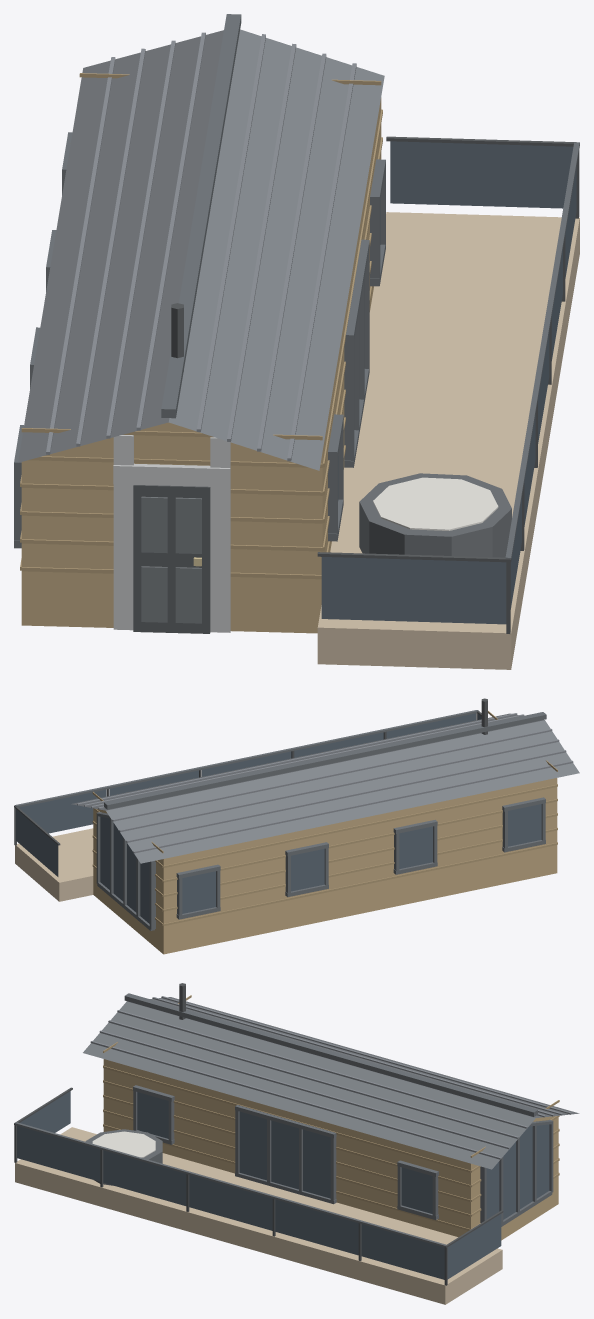
The picture shows the model from 3 angles, top to bottom: view 1: azimuth 30°, elevation 25°; view 2: azimuth 150°, elevation 25°; view 3: azimuth 270°, elevation 25°; orthographic projection. The views are drawn at different scales.
Visible parts, largest first — view 1: slate, larch, door_wood, slate_dk, slate_lt, window_glass_006, window_glass_007, stone_band, door_wood_p, band_dark, door_dark_p, door_dark (+2 smaller); view 2: door_wood, slate, slate_dk, slate_lt, door_wood_p, larch, window_glass_013, window_glass_005, window_glass_007, window_glass_014, window_glass_017, window_glass_015 (+6 smaller); view 3: slate, door_wood, larch, slate_dk, slate_lt, door_wood_p, window_glass_013, window_glass_004, window_glass_001, window_glass_002, window_glass_003, window_glass_005 (+10 smaller).
Boxes of the visible parts, x1=… form: slate: x1=18, y1=29, x2=384, y2=470; larch: x1=317, y1=212, x2=579, y2=669; door_wood: x1=21, y1=97, x2=381, y2=633; slate_dk: x1=14, y1=14, x2=579, y2=559; slate_lt: x1=46, y1=32, x2=356, y2=461; window_glass_006: x1=321, y1=557, x2=506, y2=624; window_glass_007: x1=390, y1=141, x2=573, y2=208; stone_band: x1=113, y1=435, x2=230, y2=632; door_wood_p: x1=20, y1=73, x2=382, y2=579; band_dark: x1=359, y1=473, x2=511, y2=557; door_dark_p: x1=141, y1=496, x2=201, y2=623; door_dark: x1=133, y1=485, x2=210, y2=633; door_wood: x1=93, y1=778, x2=557, y2=954; slate: x1=71, y1=713, x2=579, y2=863; slate_dk: x1=15, y1=710, x2=546, y2=930; slate_lt: x1=77, y1=713, x2=573, y2=853; door_wood_p: x1=92, y1=711, x2=557, y2=925; larch: x1=15, y1=828, x2=93, y2=901; window_glass_013: x1=100, y1=816, x2=149, y2=923; window_glass_005: x1=19, y1=789, x2=106, y2=833; window_glass_007: x1=16, y1=809, x2=58, y2=876; window_glass_014: x1=182, y1=871, x2=215, y2=913; window_glass_017: x1=508, y1=804, x2=541, y2=846; window_glass_015: x1=291, y1=849, x2=324, y2=891; slate: x1=83, y1=997, x2=579, y2=1169; door_wood: x1=103, y1=1059, x2=558, y2=1240; larch: x1=15, y1=1127, x2=502, y2=1304; slate_dk: x1=15, y1=993, x2=553, y2=1247; slate_lt: x1=90, y1=996, x2=571, y2=1159; door_wood_p: x1=103, y1=995, x2=559, y2=1230; window_glass_013: x1=486, y1=1124, x2=549, y2=1219; window_glass_004: x1=275, y1=1199, x2=358, y2=1255; window_glass_001: x1=17, y1=1126, x2=100, y2=1181; window_glass_002: x1=103, y1=1150, x2=186, y2=1205; window_glass_003: x1=189, y1=1175, x2=272, y2=1230; window_glass_005: x1=361, y1=1224, x2=444, y2=1279.
Size of the model in its own units: 11.77 by 3.96 by 13.3.
